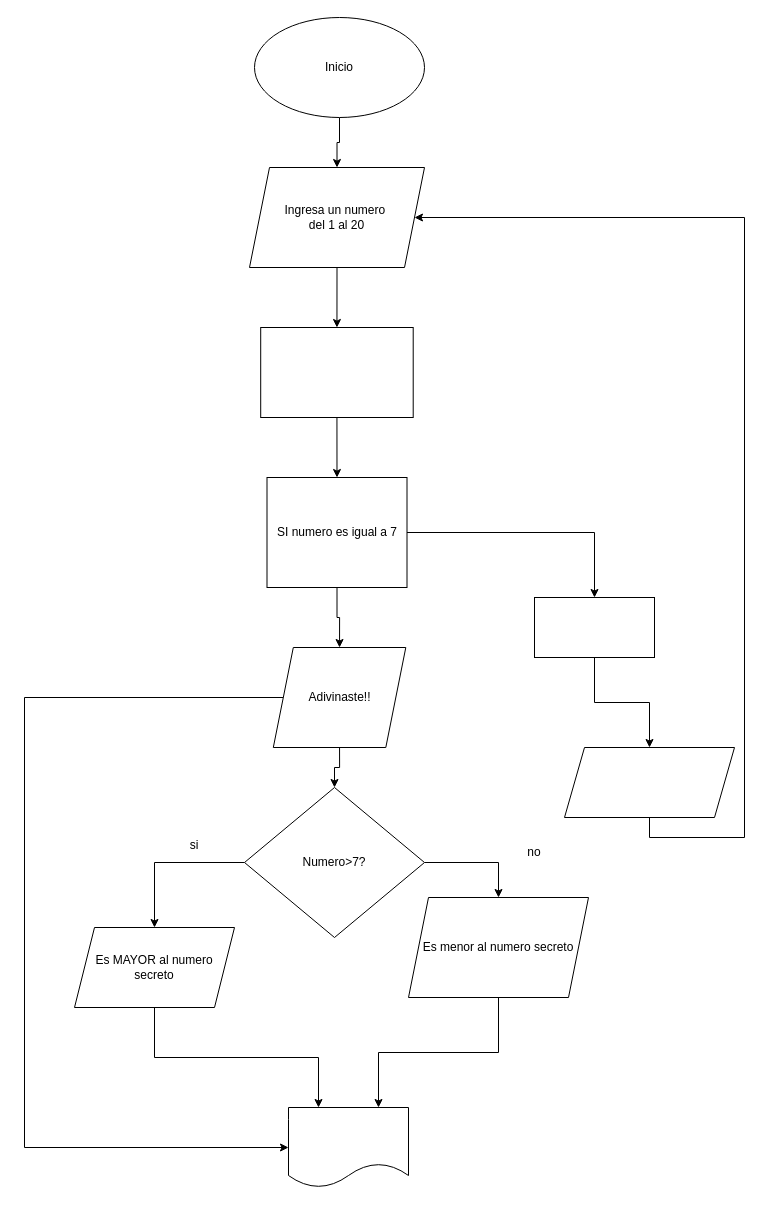
Some shapes in this 770 by 1205 pixel diagram are drawn without their labels. Here are the shapes that lost their labels. From the top down, the centre of each, then its label:
At point (336, 372): "Leer numero".
At point (594, 627): "1>numero>20".
At point (649, 782): "Numero fuera de rango".
At point (348, 1147): "Fin".
